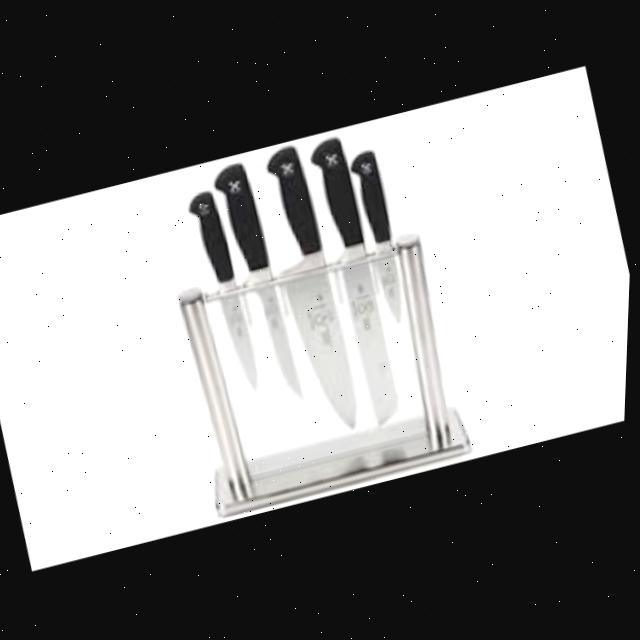Knife: (248, 154, 377, 454), (304, 134, 421, 431), (209, 161, 318, 413), (185, 185, 274, 396), (346, 129, 424, 328)
